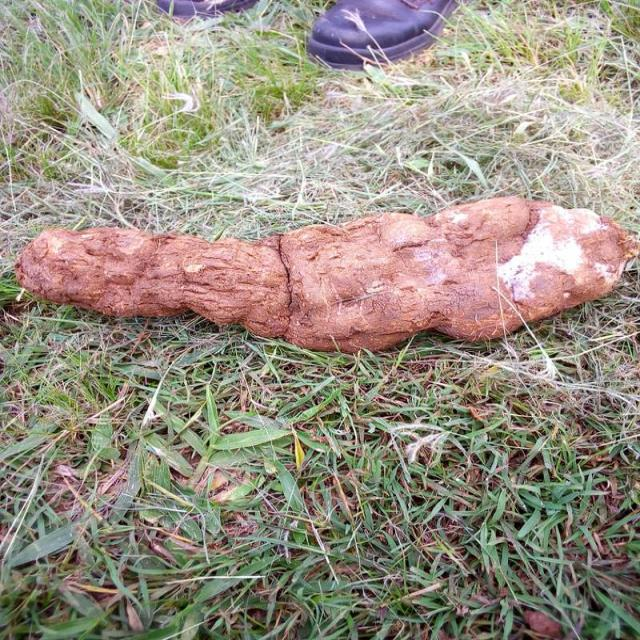cassava leaf: (15, 193, 640, 354)
